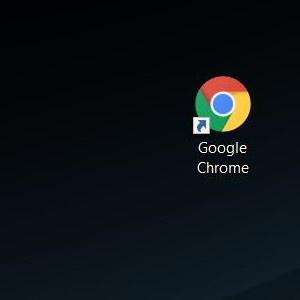chrome: (192, 76, 250, 134)
